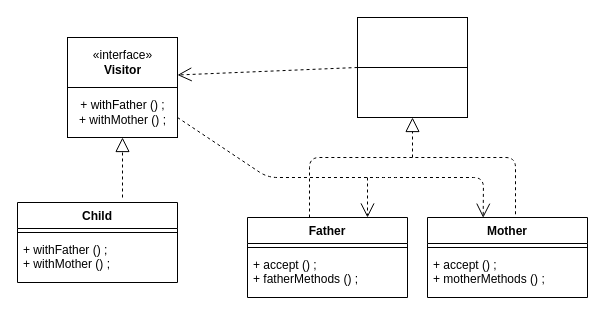
Image size: 605x318. Some labels were removed from this diagram. Each missing label, with the centre of its shape:
"+ accept () ;" goes at pixel 412 92.
"«interface» Parents" goes at pixel 412 42.
